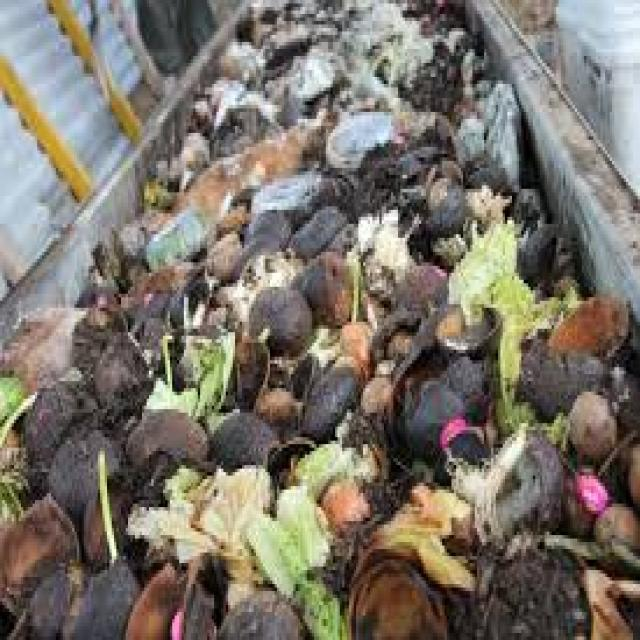food_waste: (255, 15, 543, 640)
